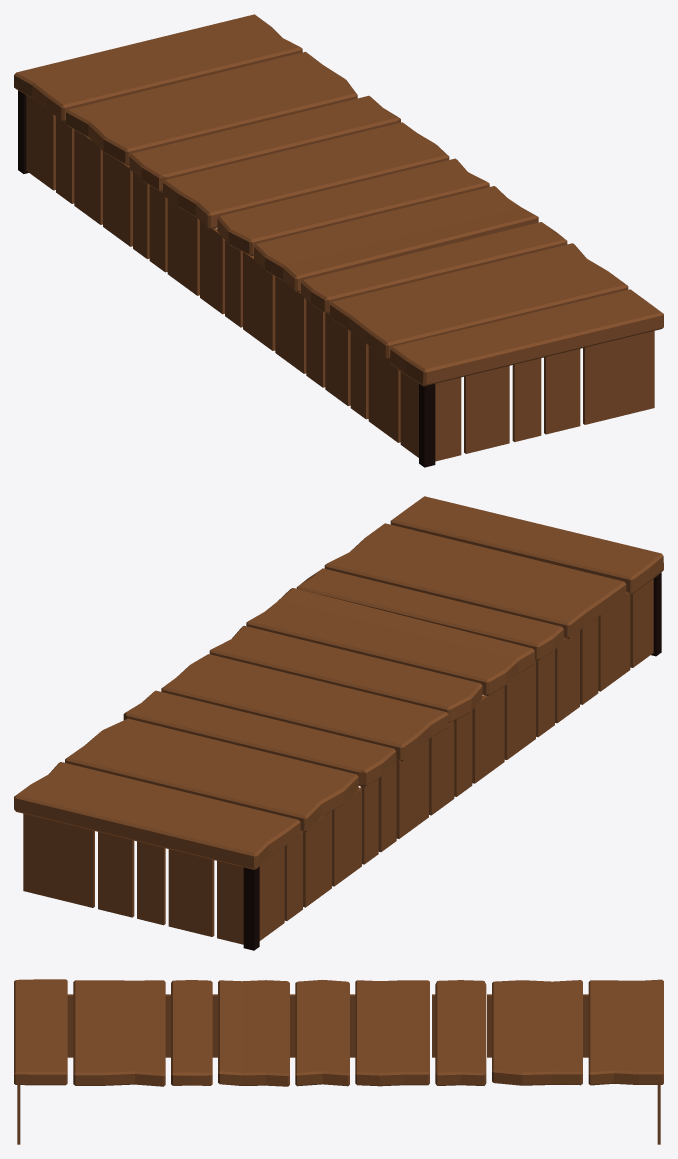
Rendered from ww_small_foundation_a.glb.
3 renders of one model, top to bottom at view 1: azimuth 30°, elevation 25°; view 2: azimuth 150°, elevation 25°; view 3: azimuth 270°, elevation 25°, orthographic. The views are drawn at different scales.
Parts seen in each view (by area): view 1: Small_Foundation_A; view 2: Small_Foundation_A; view 3: Small_Foundation_A.
Part boxes in pixels (x1=…): Small_Foundation_A: x1=14, y1=14, x2=663, y2=467; Small_Foundation_A: x1=14, y1=496, x2=663, y2=950; Small_Foundation_A: x1=14, y1=979, x2=663, y2=1144.
Bounding box in the file's own units: 1.84 × 0.7103 × 5.28.
